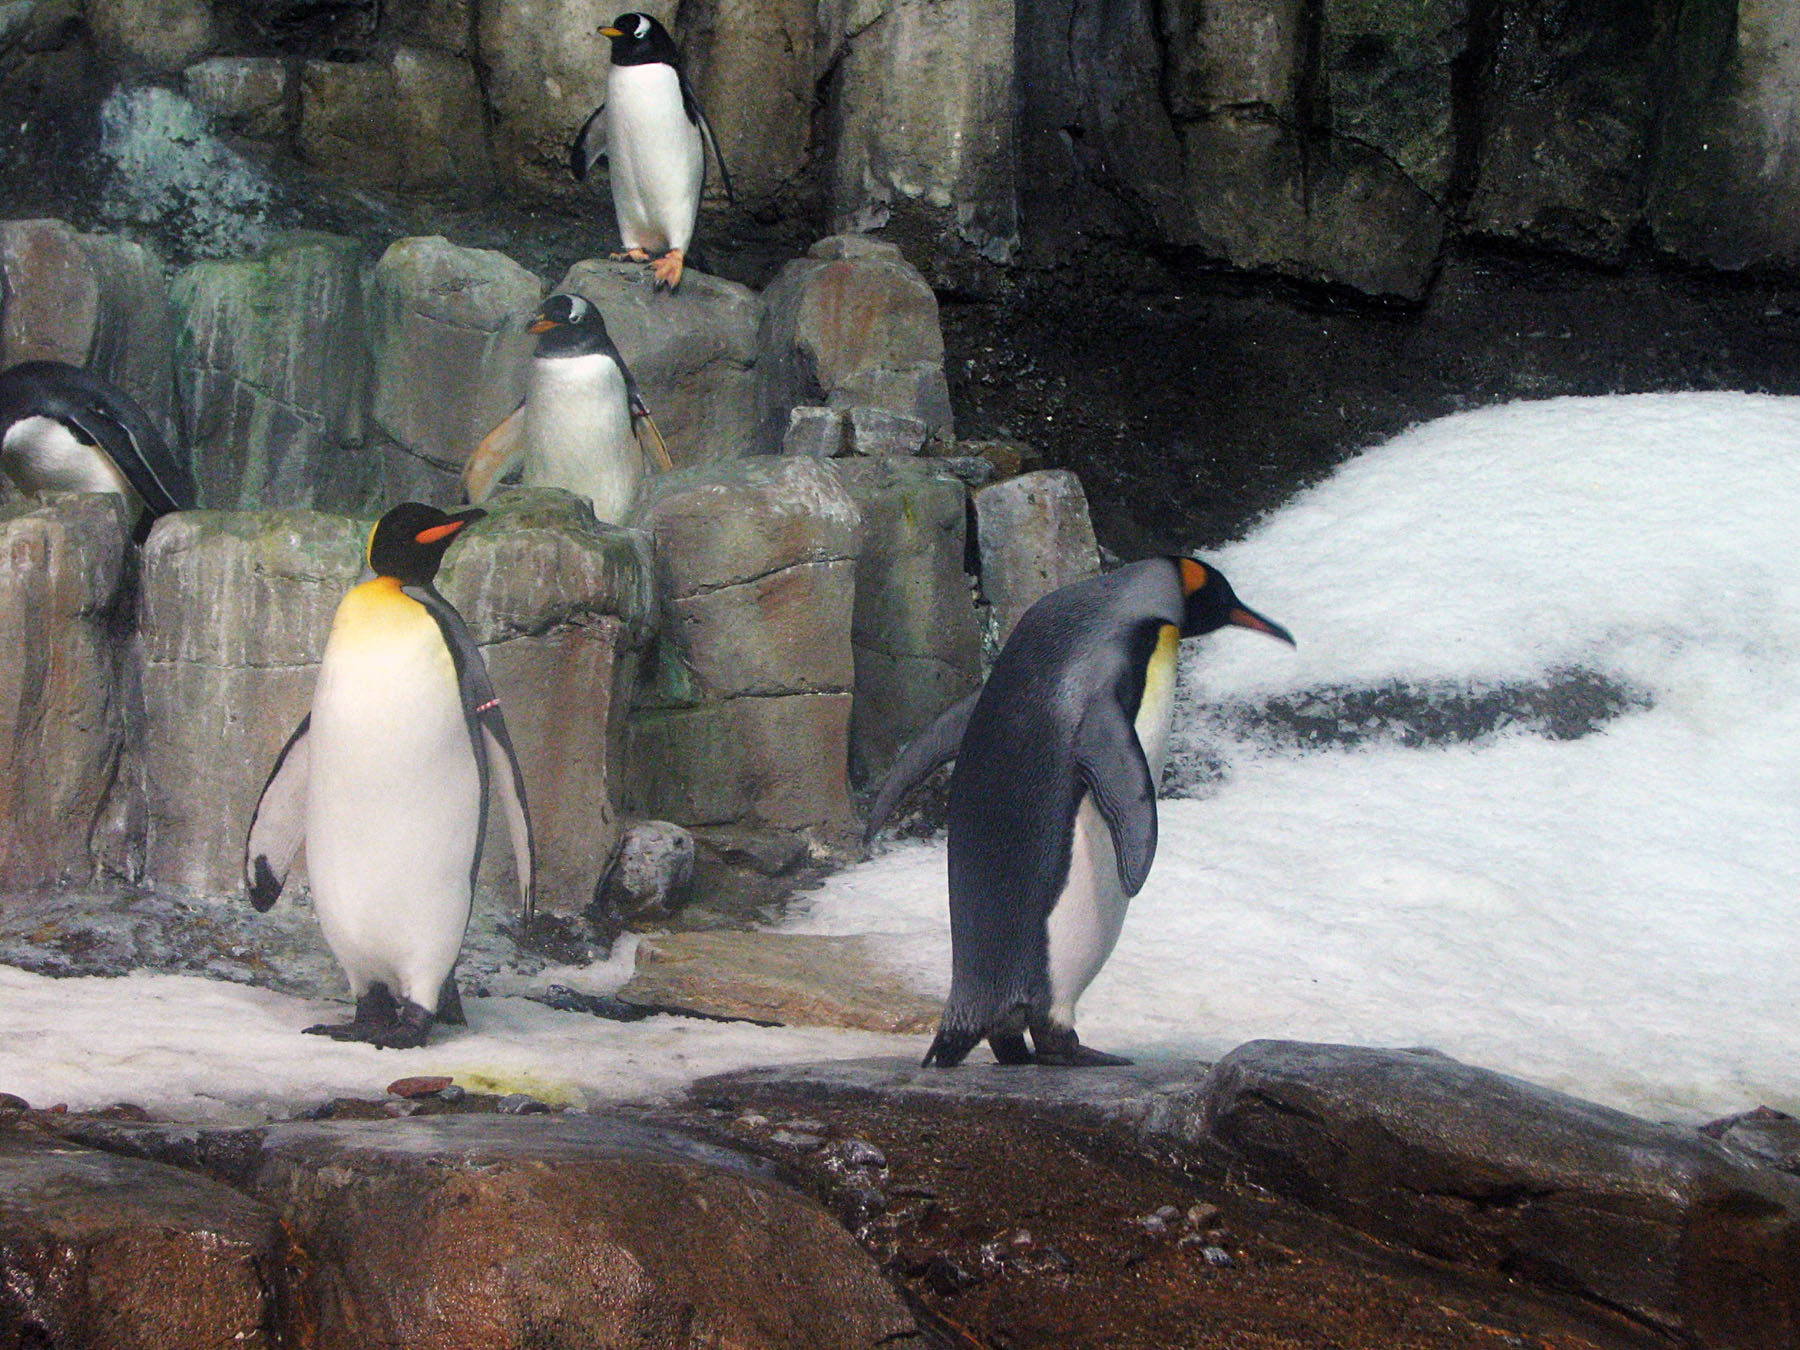penguin: (850, 557, 1327, 1064), (240, 496, 540, 1034), (581, 7, 731, 282)
